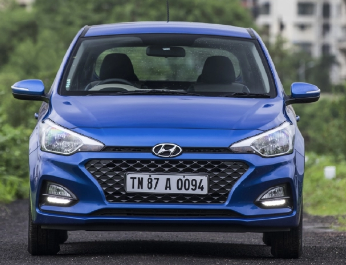car: (11, 18, 322, 261)
